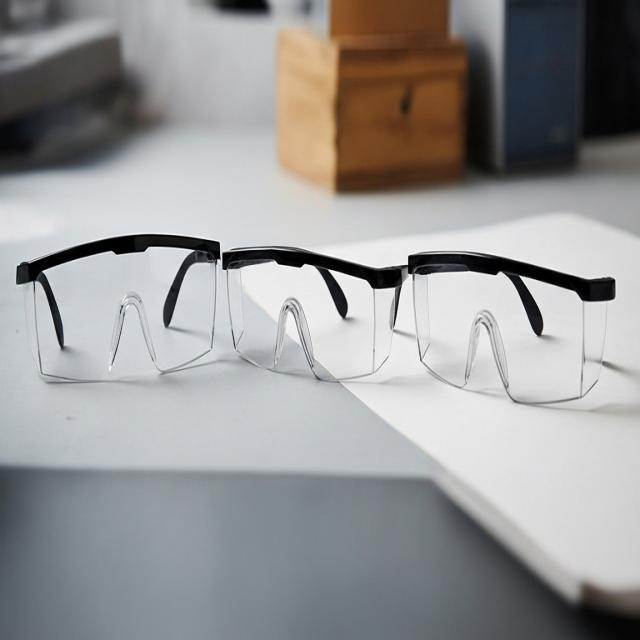oculos-epi: (16, 233, 615, 404)
